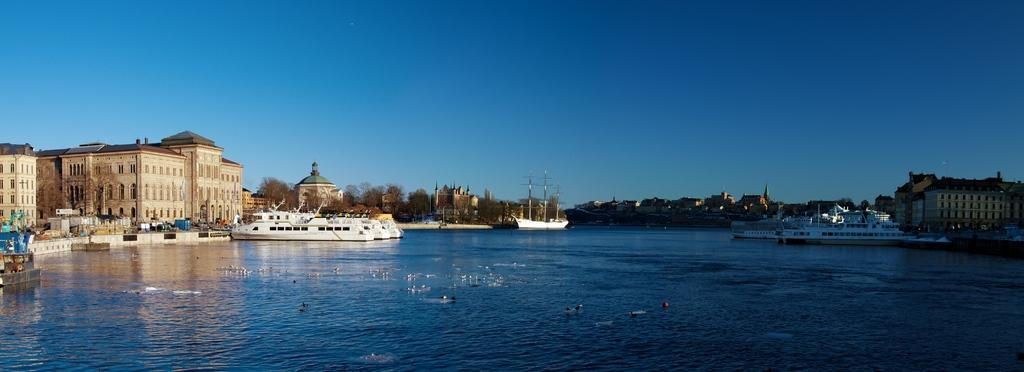PassengerShip: (204, 196, 404, 242), (777, 205, 913, 244), (722, 204, 816, 244), (509, 213, 573, 233)
